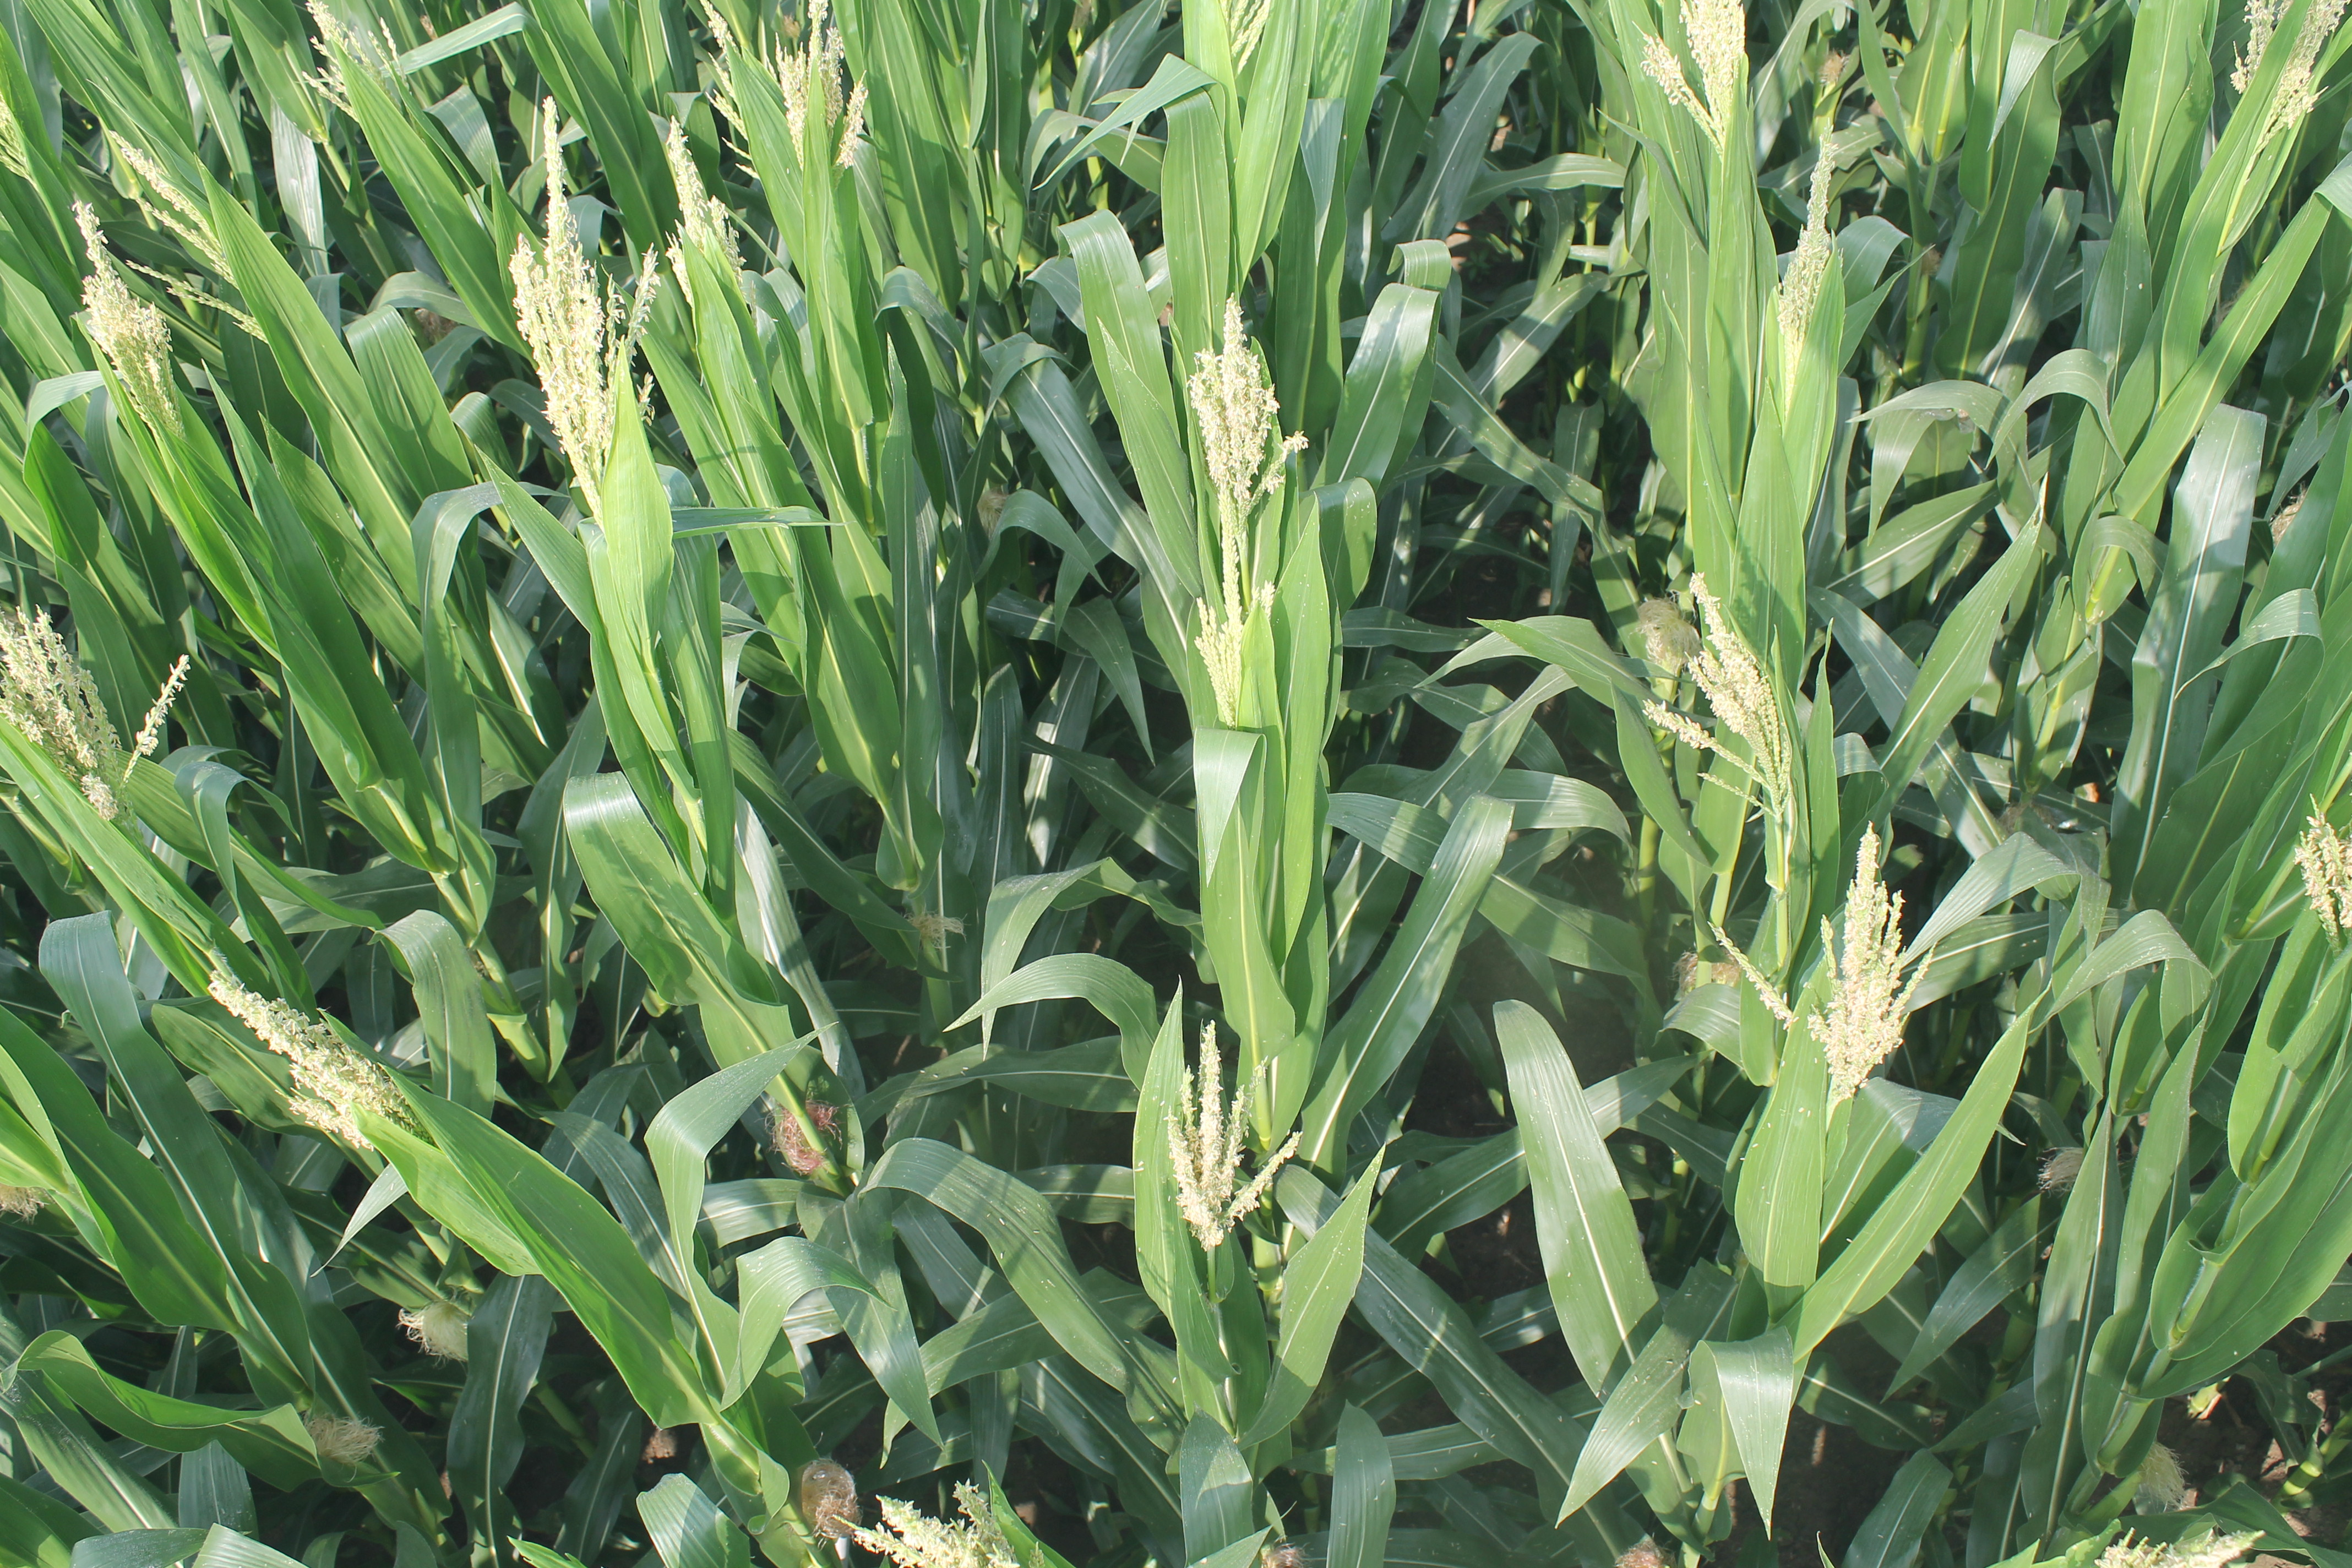Maize: (497, 112, 644, 483), (199, 934, 434, 1157), (7, 593, 199, 815), (1636, 581, 1795, 836), (1148, 1010, 1307, 1241), (1808, 824, 1939, 1102), (1164, 303, 1283, 521), (1164, 534, 1288, 731), (166, 143, 290, 339), (1771, 136, 1858, 395), (656, 124, 770, 303), (835, 1472, 1025, 1568), (59, 227, 159, 402), (278, 0, 429, 112), (2221, 0, 2345, 133), (1652, 0, 1752, 164), (2273, 812, 2352, 938)
